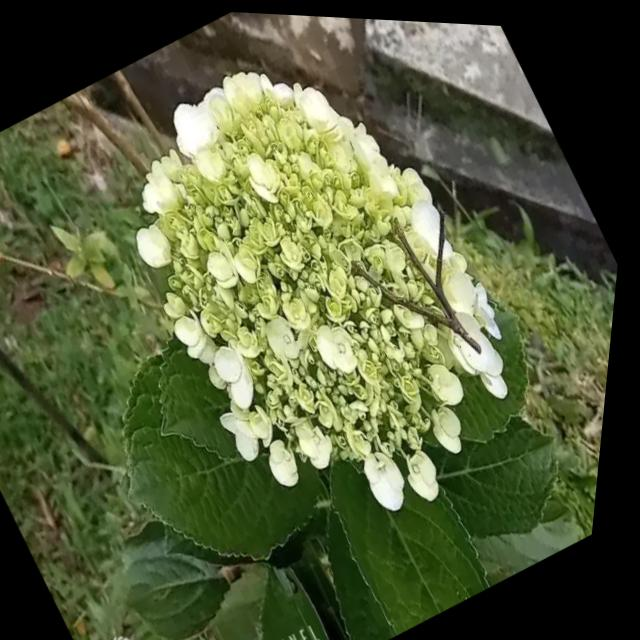Flower: (49, 4, 600, 588)
